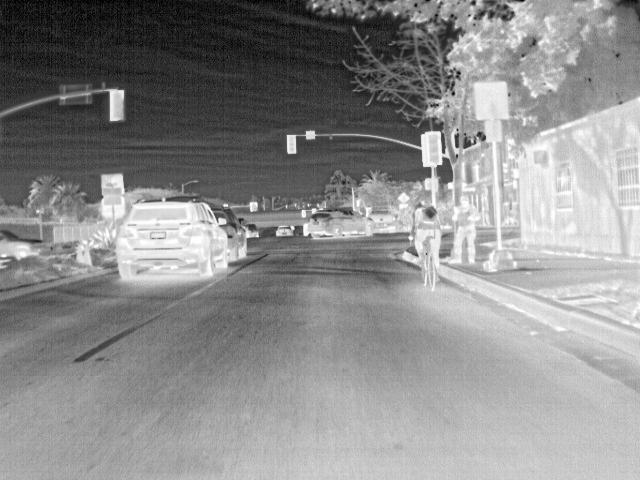car: (114, 197, 230, 280), (308, 207, 374, 241), (210, 205, 247, 261), (0, 228, 47, 260), (275, 224, 295, 238), (244, 223, 259, 238)
person: (409, 202, 440, 266), (453, 194, 476, 264)
